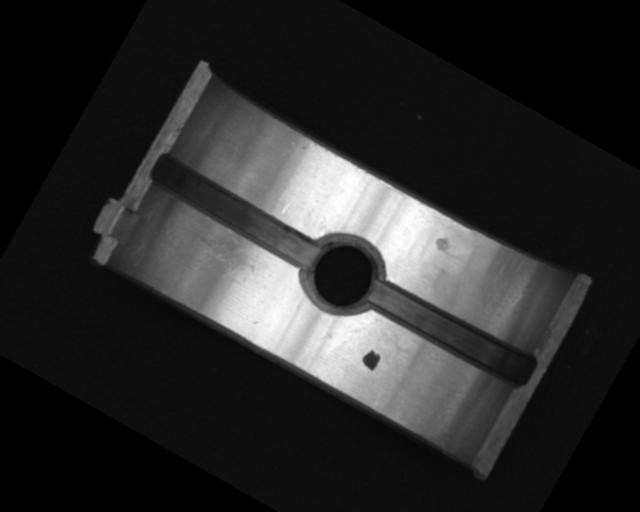blot: (358, 345, 383, 372)
bruise: (432, 233, 454, 255)
gap: (143, 149, 325, 274), (363, 272, 538, 394)
hole: (292, 224, 396, 326)
nick: (280, 162, 320, 219)
scratch: (171, 210, 265, 289)
